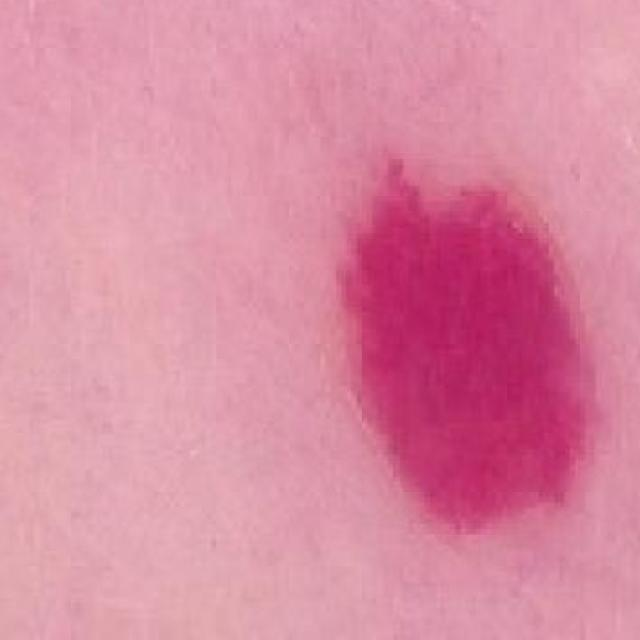VASC: (320, 118, 640, 581)
